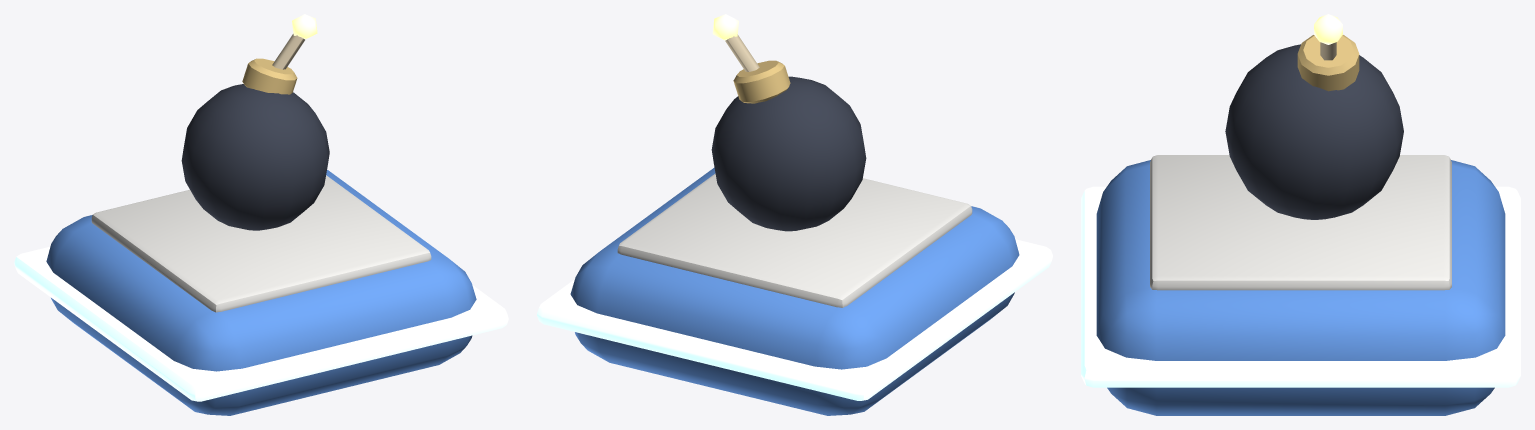
The model's file is pu_bomb.glb.
3 renders of one model, left to right at view 1: azimuth 30°, elevation 25°; view 2: azimuth 150°, elevation 25°; view 3: azimuth 270°, elevation 25°, orthographic. The views are drawn at different scales.
Parts seen in each view (by area): view 1: pu_bomb; view 2: pu_bomb; view 3: pu_bomb.
Boxes of the visible parts, box(x1,y1,x2,y2) form: pu_bomb: box(14, 14, 508, 415); pu_bomb: box(537, 14, 1052, 415); pu_bomb: box(1081, 14, 1520, 415).
Size of the model in its own units: 0.64 by 0.59 by 0.64.
